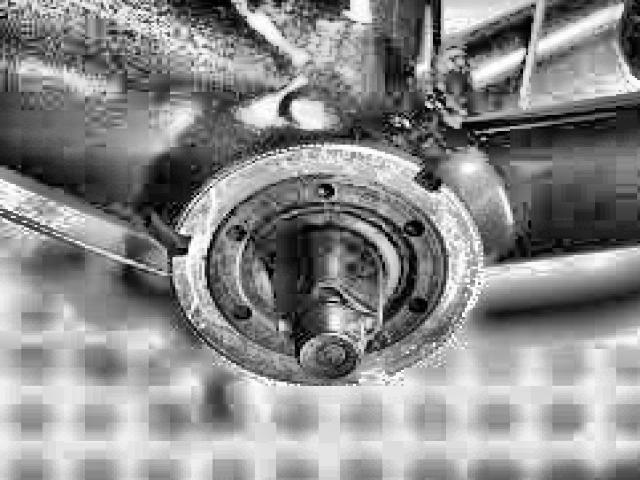bottom_bracket: (171, 146, 485, 388)
